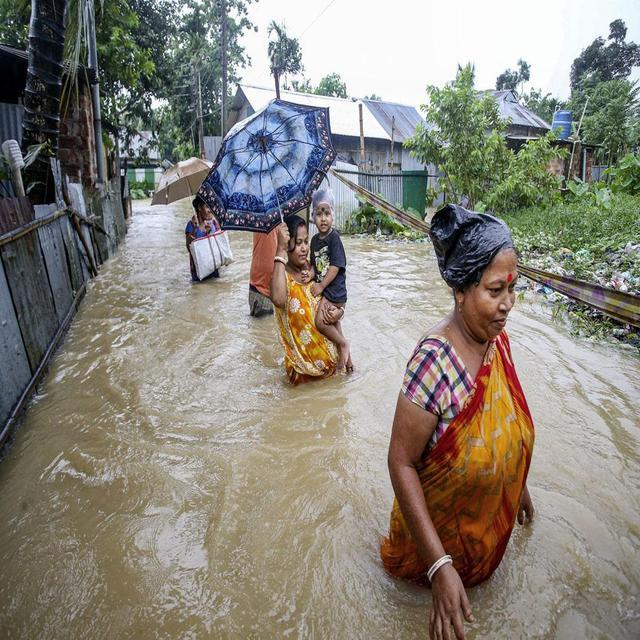Person-RiskLevel2: (381, 202, 547, 640), (255, 191, 361, 390), (160, 162, 234, 288)
